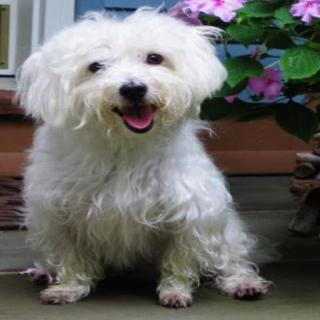dog: (12, 6, 232, 153)
nose: (116, 75, 149, 102)
